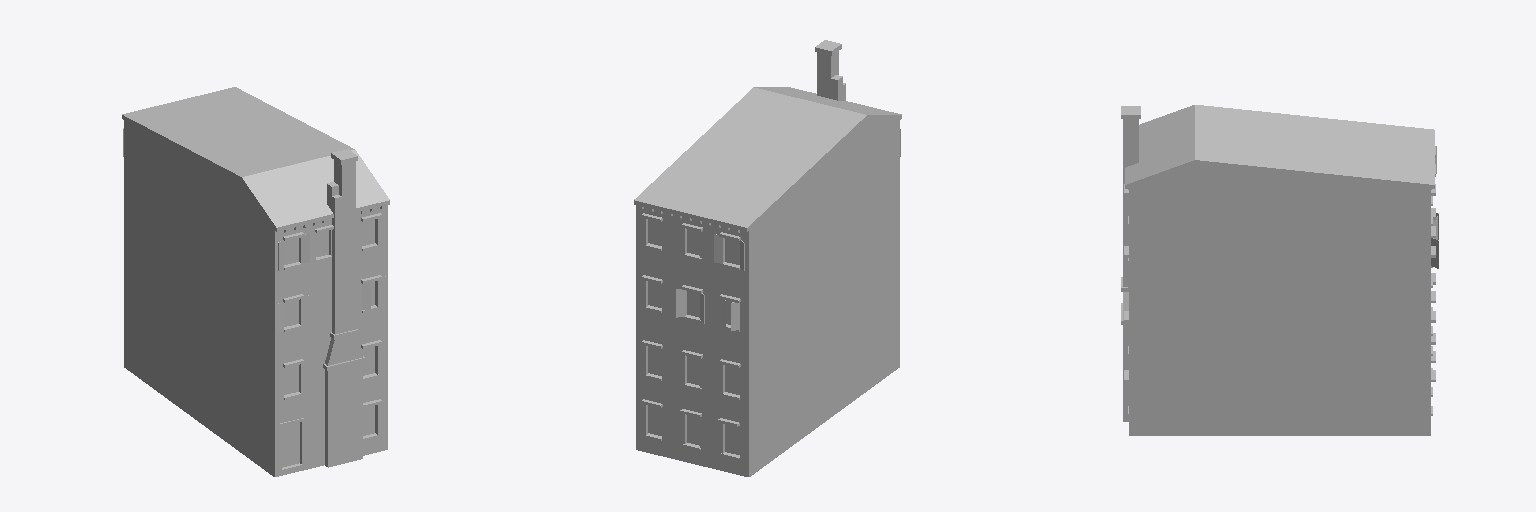
File: OldBuilding924.obj
3 renders of one model, left to right at view 1: azimuth 30°, elevation 25°; view 2: azimuth 150°, elevation 25°; view 3: azimuth 270°, elevation 25°, orthographic.
Parts seen in each view (by area): view 1: Building; view 2: Building; view 3: Building.
Part boxes in pixels (x1,y1,x2,y2): Building: (122,87,389,476); Building: (634,40,901,476); Building: (1121,105,1438,435).
Bounding box in the file's own units: 521 × 1336 × 1264.